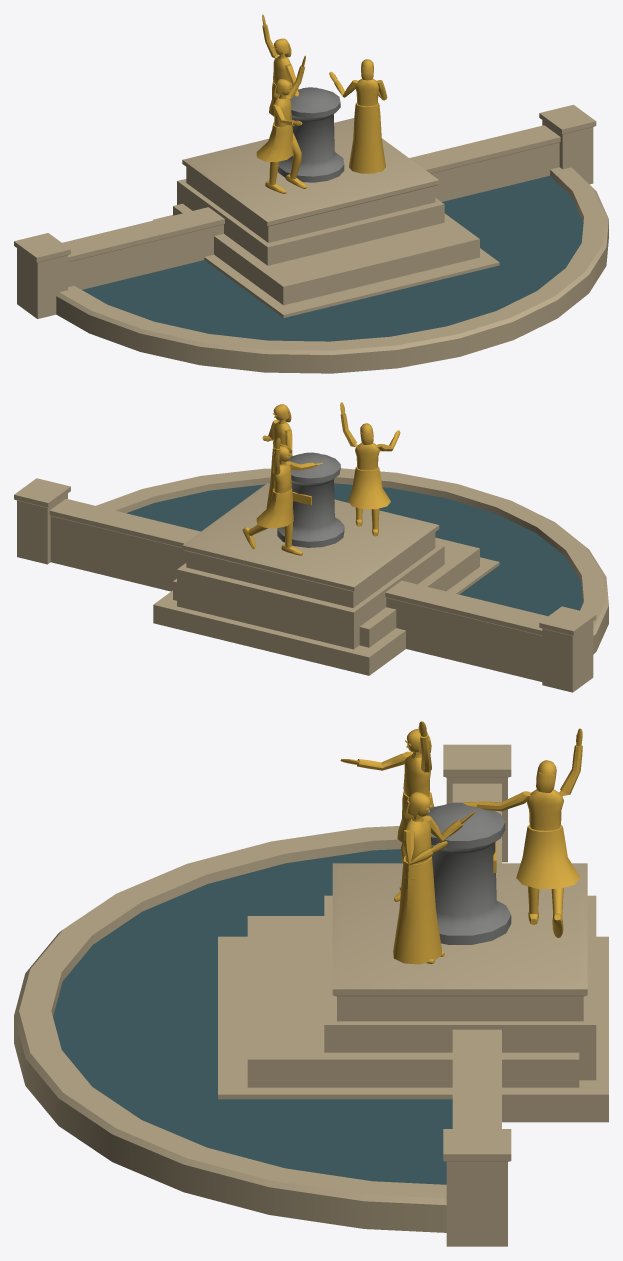
File: mon_mozartbrunnen.glb
3 views of the same model, one above another, from view 1: azimuth 30°, elevation 25°; view 2: azimuth 150°, elevation 25°; view 3: azimuth 270°, elevation 25° (orthographic). The views are drawn at different scales.
Parts seen in each view (by area): view 1: mon_mozartbrunnen; view 2: mon_mozartbrunnen; view 3: mon_mozartbrunnen.
Boxes of the visible parts, bbox=[...] form: mon_mozartbrunnen: bbox=[14, 14, 608, 373]; mon_mozartbrunnen: bbox=[14, 402, 608, 692]; mon_mozartbrunnen: bbox=[14, 721, 608, 1246].
Size of the model in its own units: 11.4 by 4.01 by 7.
